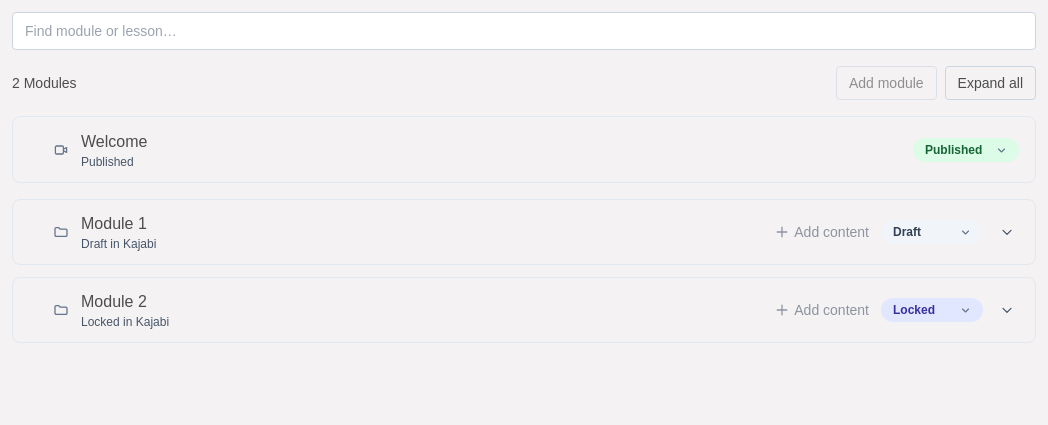
BuilderOutline › gives modules and submodules their own actions
Click the button named "Expand Module 1": (1007, 232) [995,220,1019,244]
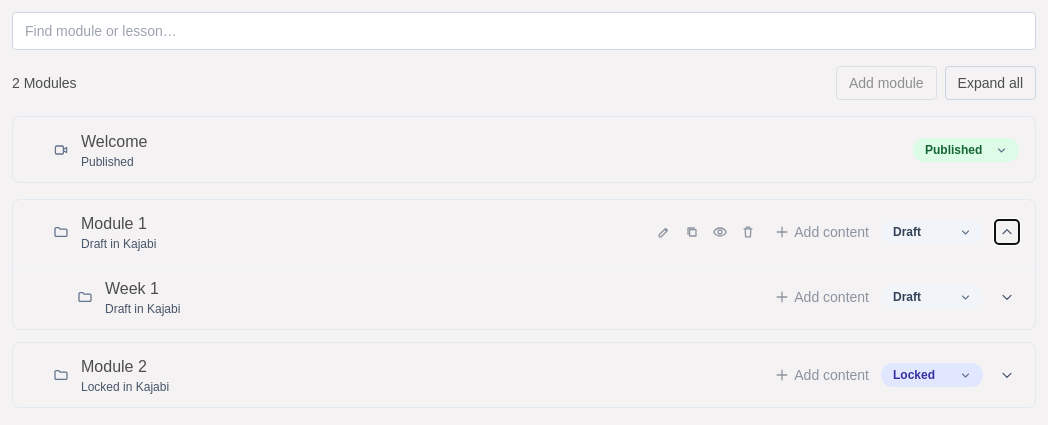
Result: the button named "Edit module" is disabled at [650,218,678,246]
Result: the button named "Duplicate module" is disabled at [678,218,706,246]
Result: the button named "Open module preview" is disabled at [706,218,734,246]
